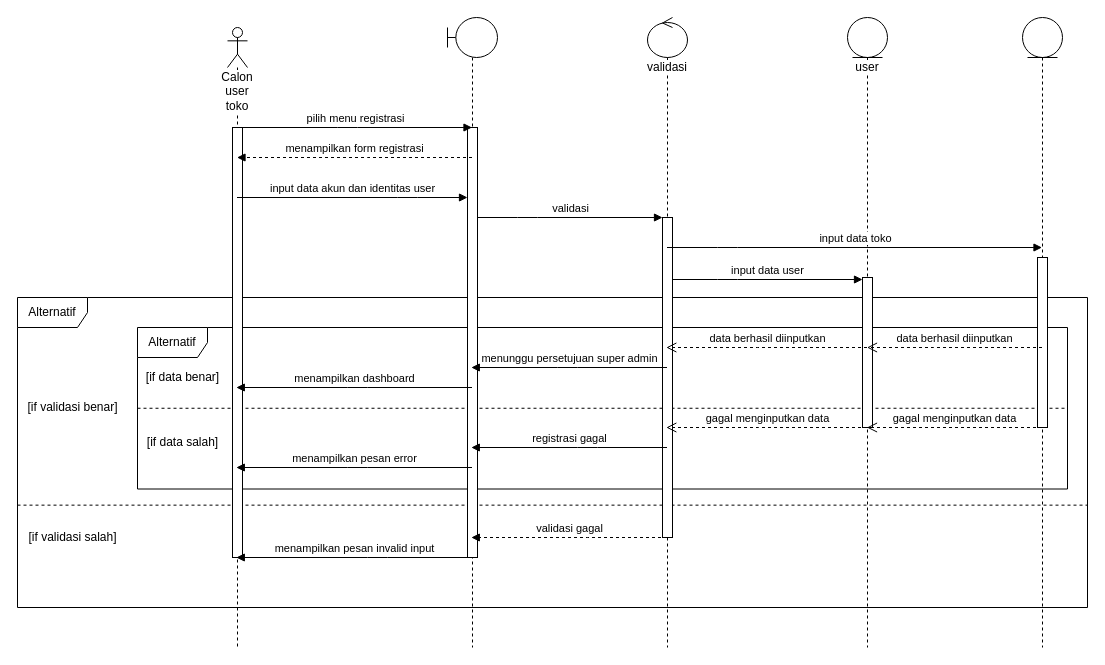
The diagram is 1105 pixels wide and 665 high, and some of its shapes have lost their labels. Here are the shapes that lost their labels. From the top down, the box of each, then its label:
(446, 16, 498, 648): interface
(1022, 16, 1062, 648): toko
